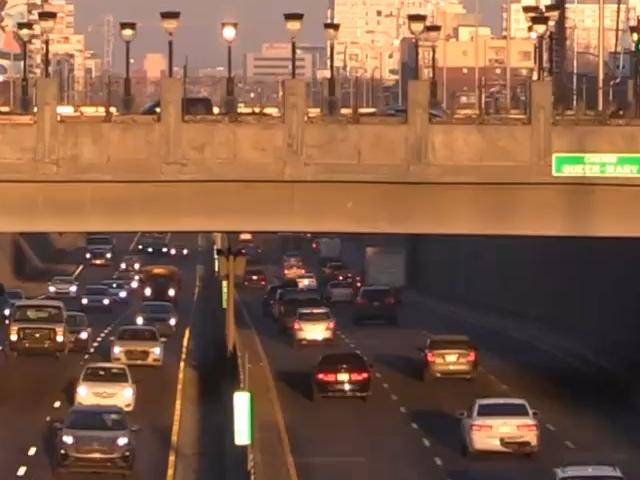car: (54, 408, 140, 474), (458, 397, 543, 457), (70, 360, 142, 410), (6, 301, 68, 357), (419, 331, 483, 385), (309, 354, 374, 403), (280, 304, 338, 346), (111, 328, 166, 367), (273, 293, 326, 332), (352, 287, 401, 326), (263, 283, 309, 324), (51, 310, 93, 353), (131, 302, 180, 338), (137, 264, 181, 303), (78, 284, 123, 315), (322, 272, 359, 303), (45, 273, 80, 298), (98, 278, 131, 304), (238, 265, 272, 290), (114, 264, 144, 291), (0, 288, 21, 323)
